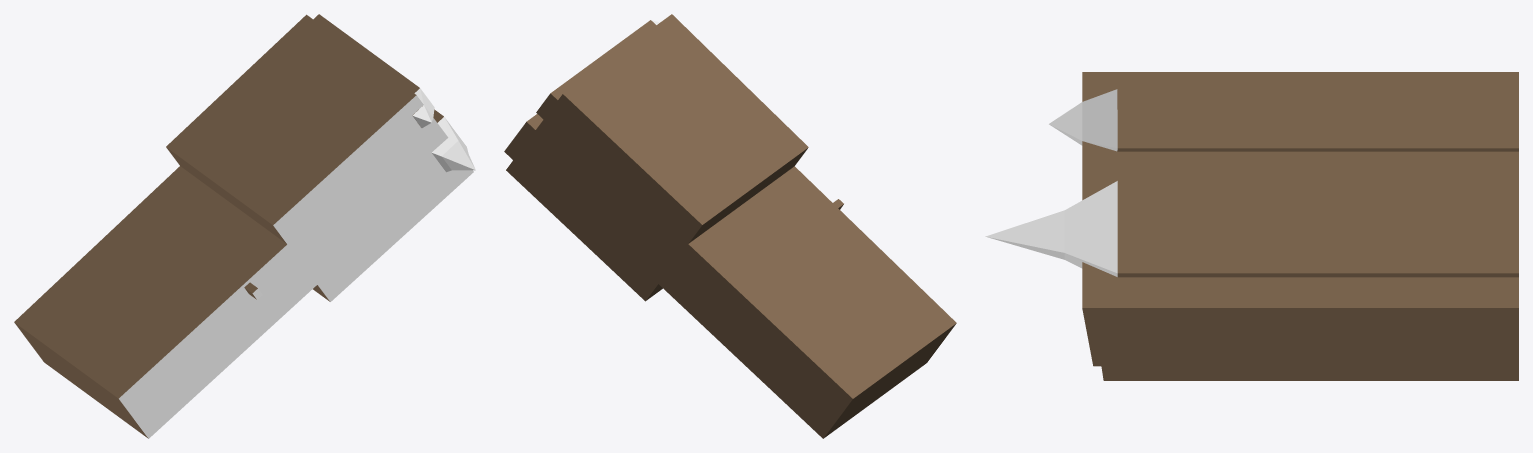
The picture shows the model from 3 angles, left to right: view 1: azimuth 30°, elevation 25°; view 2: azimuth 150°, elevation 25°; view 3: azimuth 270°, elevation 25°; orthographic projection. The views are drawn at different scales.
Visible parts, largest first — view 1: City_PC-08619; view 2: City_PC-08619; view 3: City_PC-08619.
Boxes of the visible parts, <box> form: City_PC-08619: <box>14,14,475,438</box>; City_PC-08619: <box>504,14,956,438</box>; City_PC-08619: <box>985,72,1518,380</box>.
Size of the model in its own units: 2596 by 2001 by 1719.
